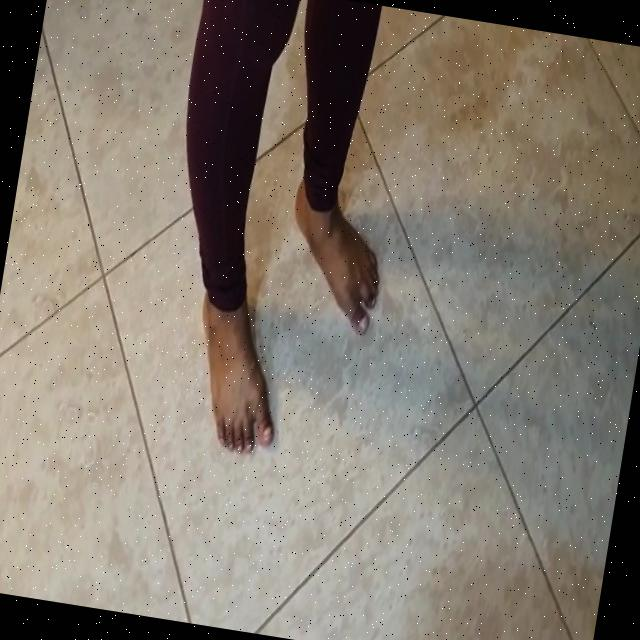no-boots: (170, 273, 302, 465), (271, 162, 407, 345)
